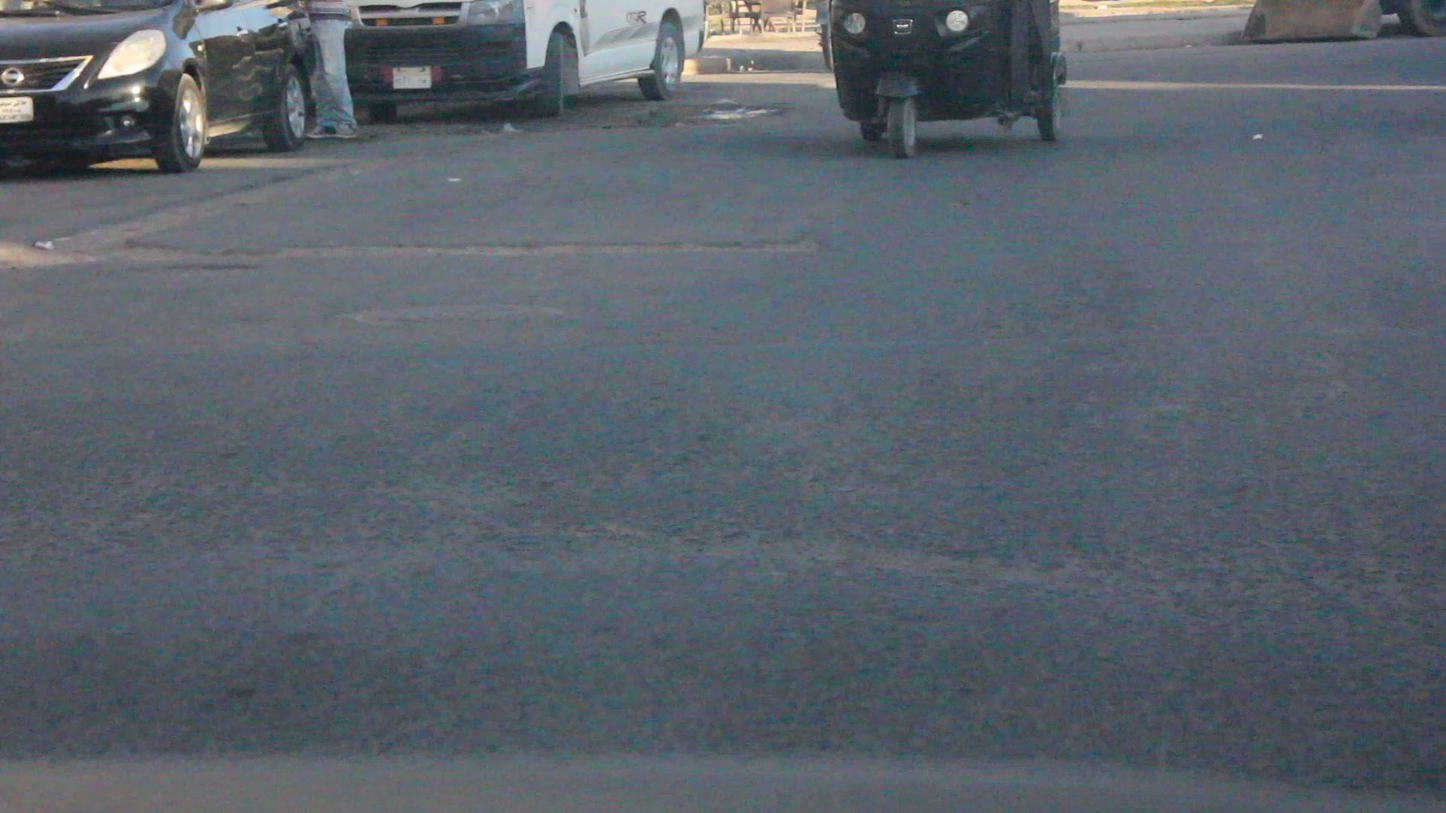Pothole: (115, 237, 796, 271), (635, 85, 770, 147)
